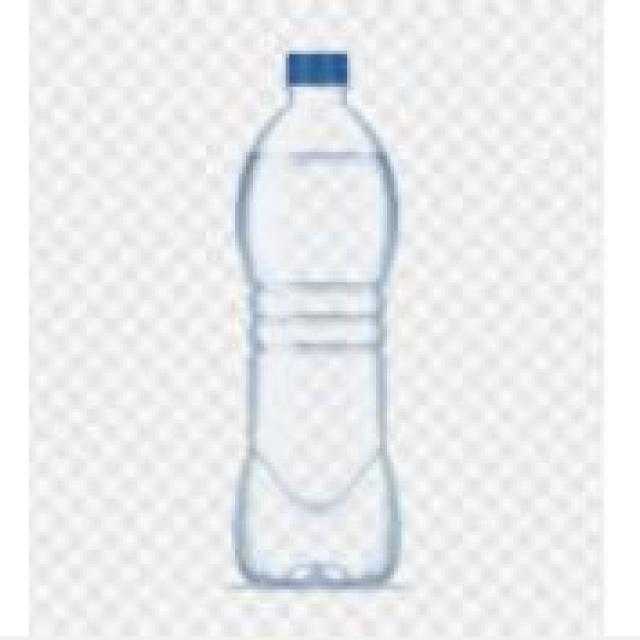bottle: (220, 36, 408, 597)
